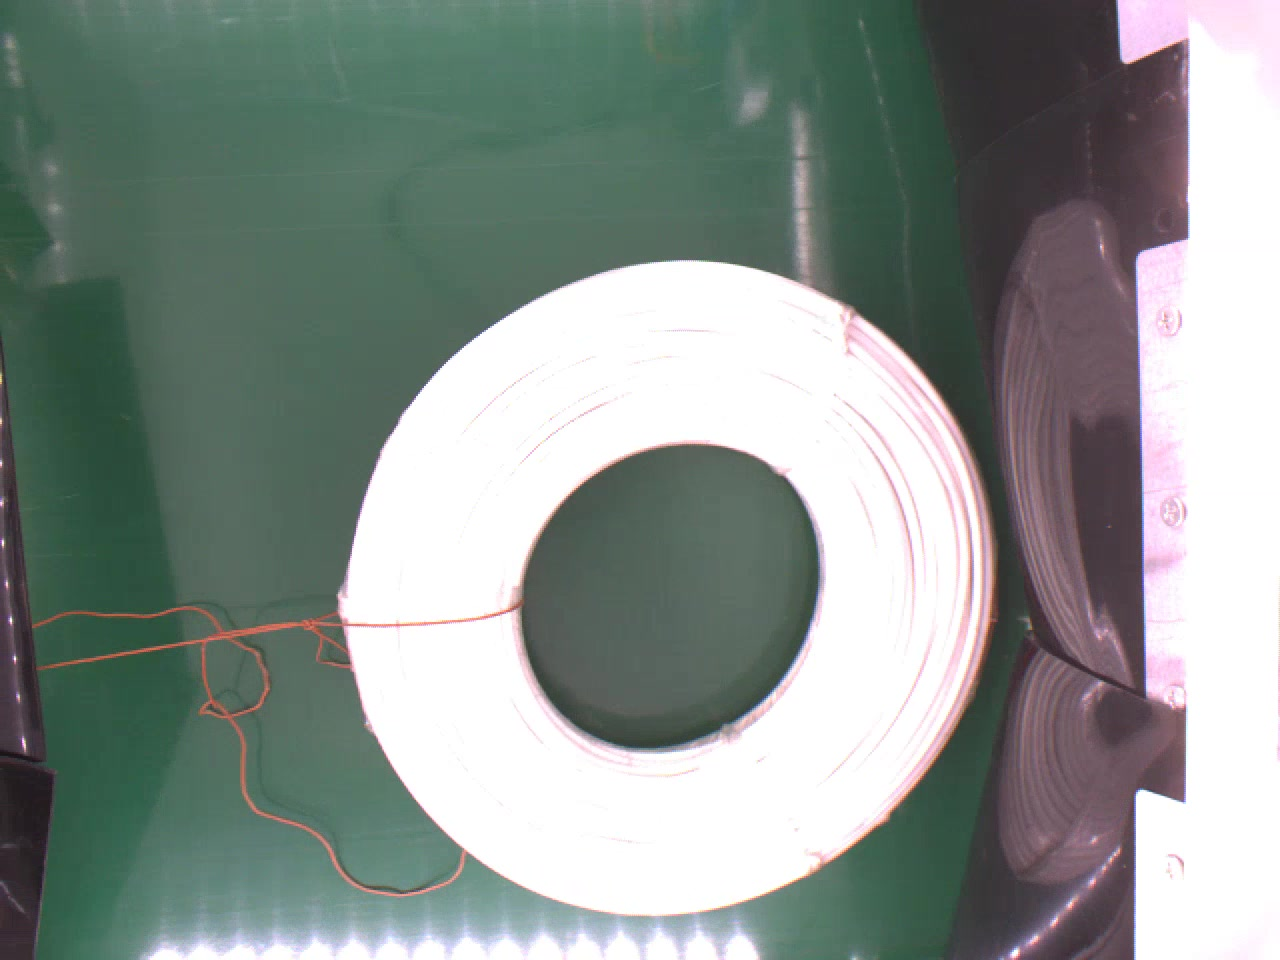white: (337, 254, 1001, 916)
